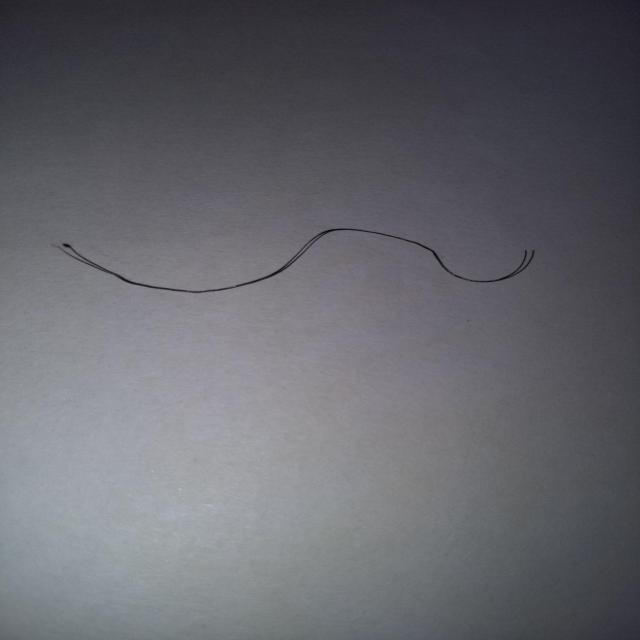hair: (51, 222, 549, 296)
